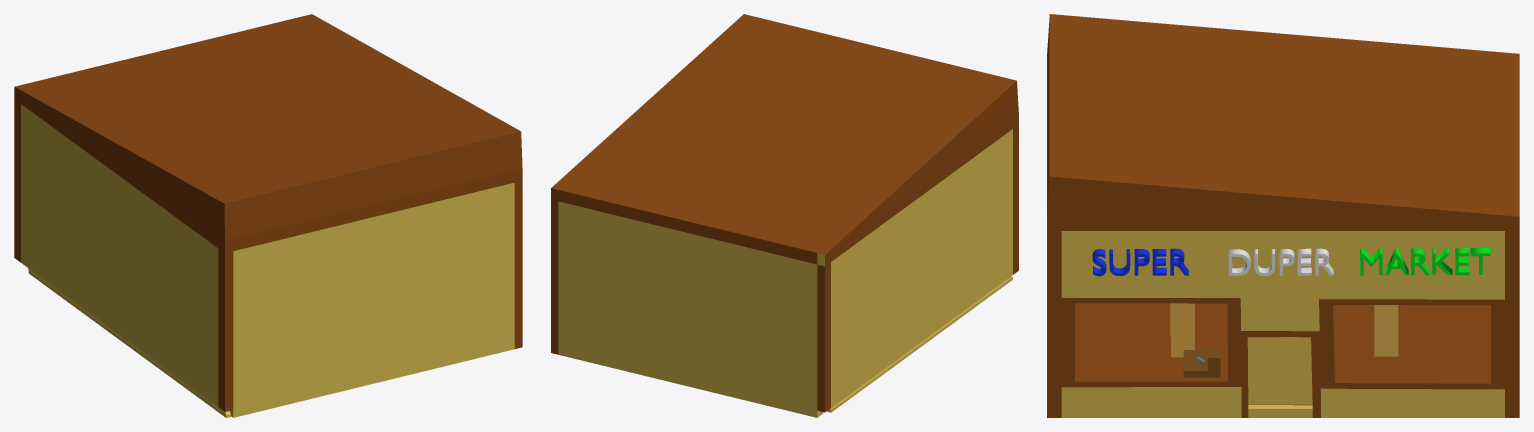
The model's file is Market.fbx.
3 renders of one model, left to right at view 1: azimuth 30°, elevation 25°; view 2: azimuth 150°, elevation 25°; view 3: azimuth 270°, elevation 25°, orthographic. The views are drawn at different scales.
Visible parts, largest first — view 1: Cube.006; view 2: Cube.006; view 3: Cube.006, Text.001, Text.002, Text, Cube.003, Cube.001, Cube.009.
Boxes of the visible parts, <box> form: Cube.006: <box>14,14,522,417</box>; Cube.006: <box>551,14,1018,417</box>; Cube.006: <box>1047,14,1519,417</box>; Text.001: <box>1360,248,1490,275</box>; Text.002: <box>1228,248,1333,275</box>; Text: <box>1092,248,1188,276</box>; Cube.003: <box>1374,305,1398,356</box>; Cube.001: <box>1170,303,1194,357</box>; Cube.009: <box>1183,350,1220,377</box>.
Bounding box in the file's own units: 638 × 427 × 754.
